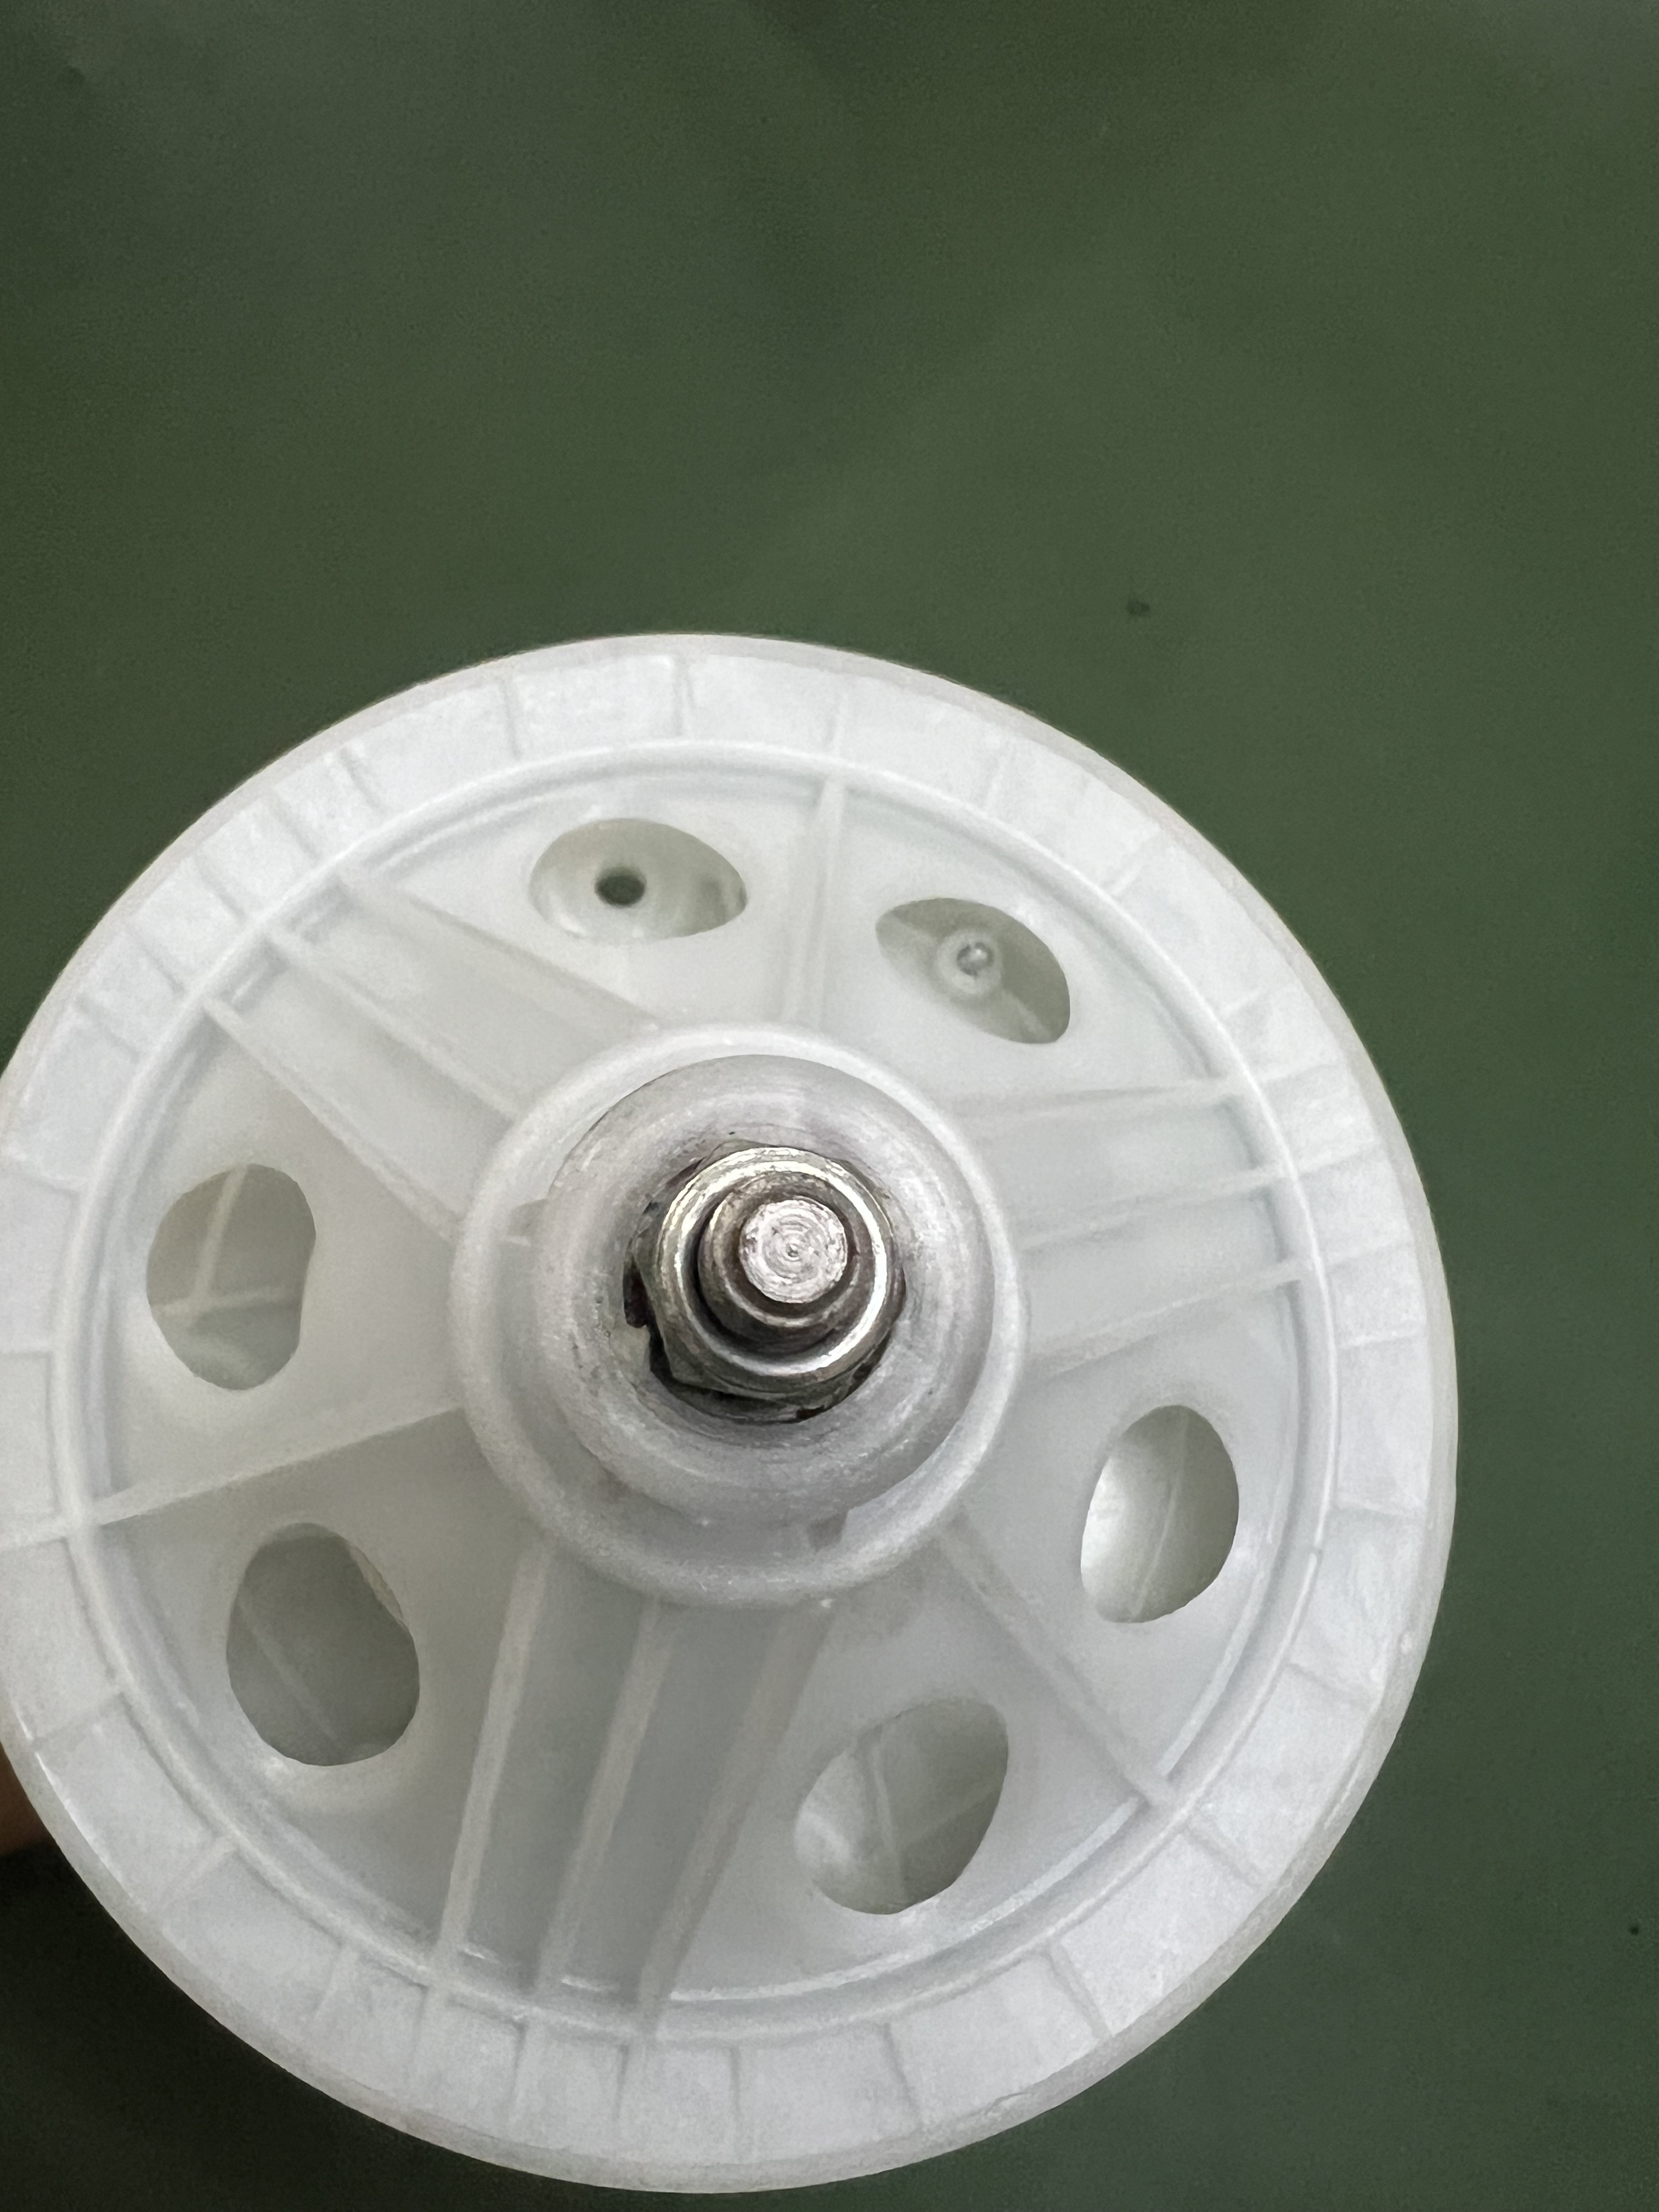gear_box_ovul: (9, 641, 1476, 2195)
